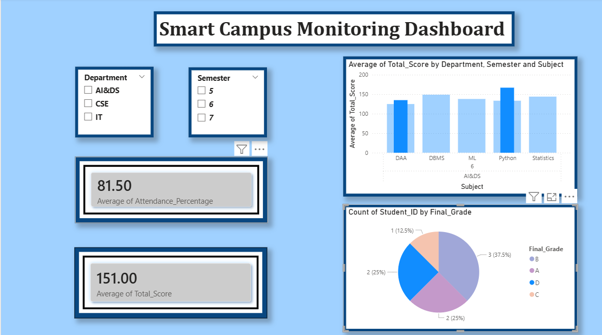

What the dashboard file says about the page in this screenshot:
{"tool":"powerbi","page":{"name":"Page 1","canvas":[1280,720],"ordinal":0},"visuals":[{"type":"textbox","box":[325.2,27.4,768.4,75.5],"z":0},{"type":"cardVisual","fields":{"Data":["Avg(5 student_performance.Attendance_Percentage)"]},"box":[157.8,337.6,410.3,141.3],"z":1000},{"type":"cardVisual","fields":{"Data":["Avg(5 student_performance.Total_Score)"]},"box":[156.4,531,410.3,150.9],"z":2000},{"type":"slicer","fields":{"Values":["5 student_performance.Department"]},"box":[157.8,145.5,167.4,150.9],"z":3000},{"type":"slicer","fields":{"Values":["5 student_performance.Semester"]},"box":[399.3,146.8,167.4,149.6],"z":4000},{"type":"clusteredColumnChart","fields":{"Y":["Avg(5 student_performance.Total_Score)"],"Category":["5 student_performance.Department","5 student_performance.Semester","5 student_performance.Subject"]},"box":[728.6,123.5,499.5,299.1],"z":5000},{"type":"pieChart","fields":{"Category":["5 student_performance.Final_Grade"],"Y":["CountNonNull(5 student_performance.Student_ID)"]},"box":[728.6,439.1,499.5,271.7],"z":6000}]}

Visuals, with their boxes in screenshot pixels (x1, y1, x2, y2), scaled from the page's 1280x720 canvas onto the 603x336 screenshot:
textbox: 153, 13, 515, 48
cardVisual - Avg(5 student_performance.Attendance_Percentage): 74, 158, 268, 223
cardVisual - Avg(5 student_performance.Total_Score): 74, 248, 267, 318
slicer - 5 student_performance.Department: 74, 68, 153, 138
slicer - 5 student_performance.Semester: 188, 69, 267, 138
clusteredColumnChart - Avg(5 student_performance.Total_Score) x 5 student_performance.Department: 343, 58, 579, 197
pieChart - 5 student_performance.Final_Grade x CountNonNull(5 student_performance.Student_ID): 343, 205, 579, 332
